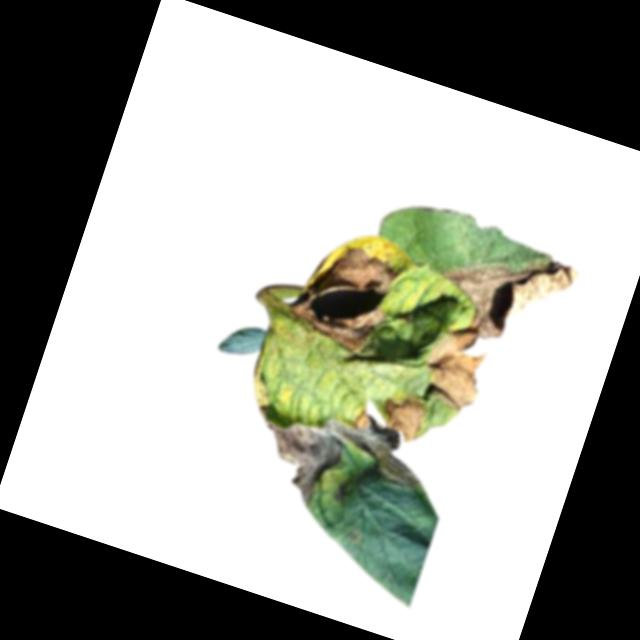Late_blight: (242, 384, 436, 538), (422, 223, 581, 360), (284, 234, 404, 359), (409, 323, 495, 416), (377, 390, 429, 445)
